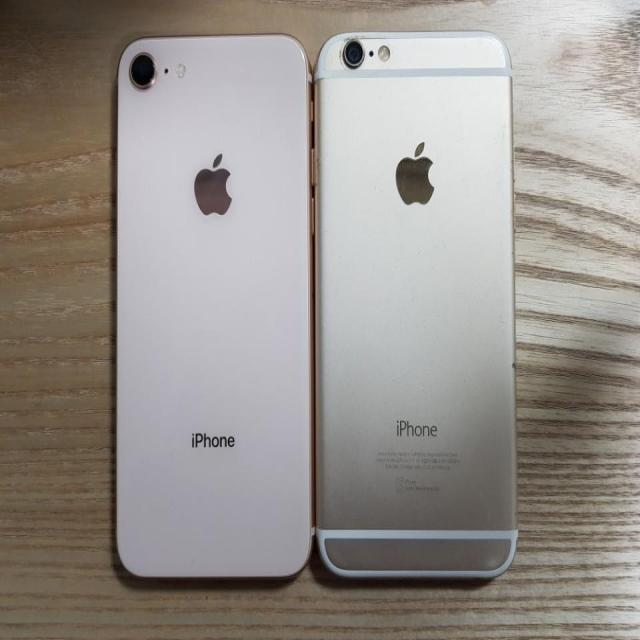phone: (314, 30, 518, 579), (116, 36, 312, 578)
